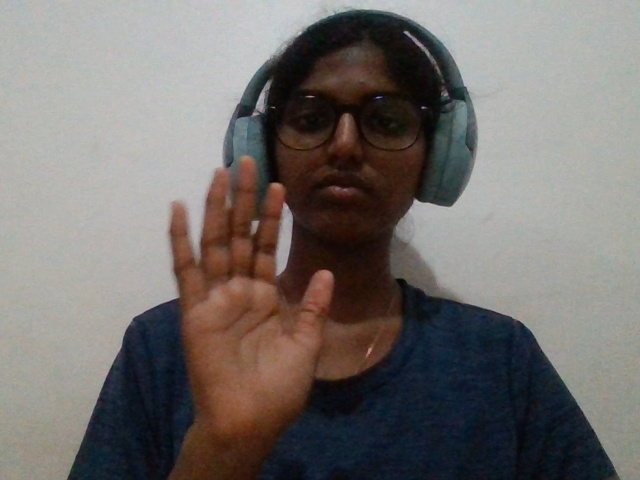Bye: (136, 149, 350, 477)
